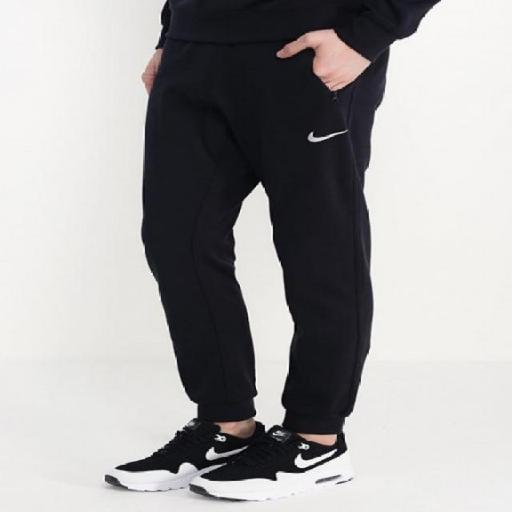Nike: (294, 126, 353, 148)
